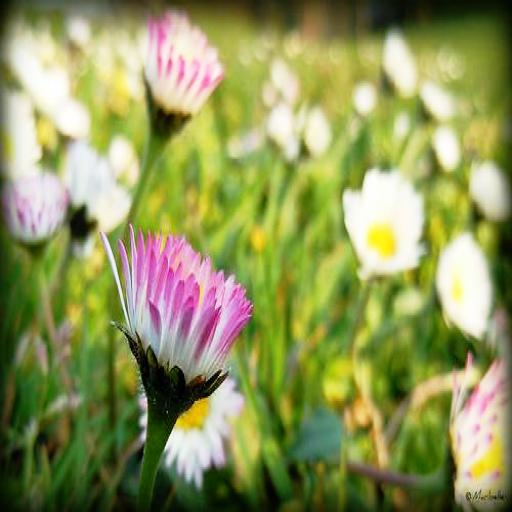daisy: (342, 174, 421, 273), (440, 236, 492, 336)
